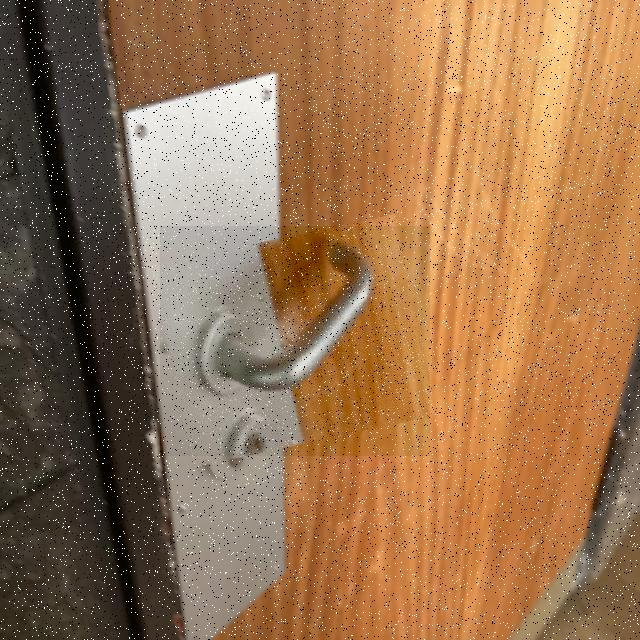doorhandle: (160, 226, 430, 456)
